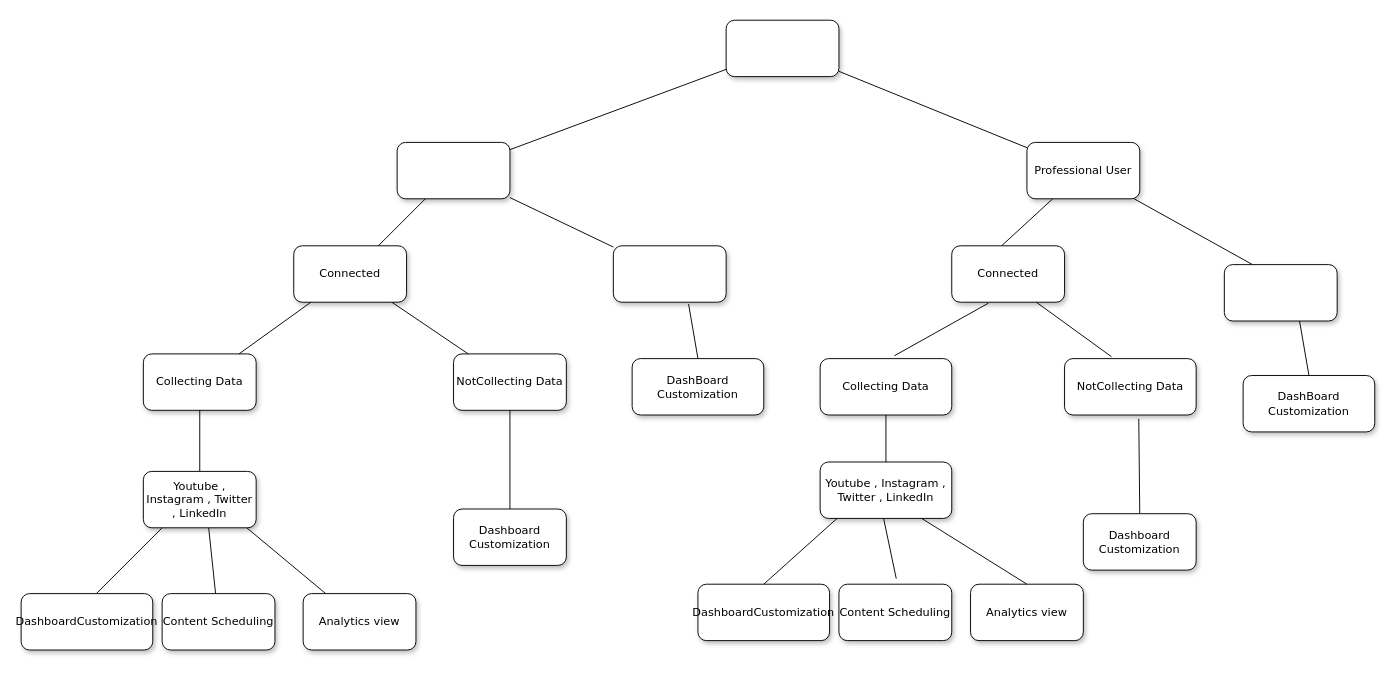
The diagram is 1397 pixels wide and 673 high, and some of its shapes have lost their labels. The centre of each missing label's shape, as x and y in pixels:
Not Connected: pixel 1281 294
NotConnected: pixel 670 275
Personal User: pixel 454 171
User Type: pixel 783 49
